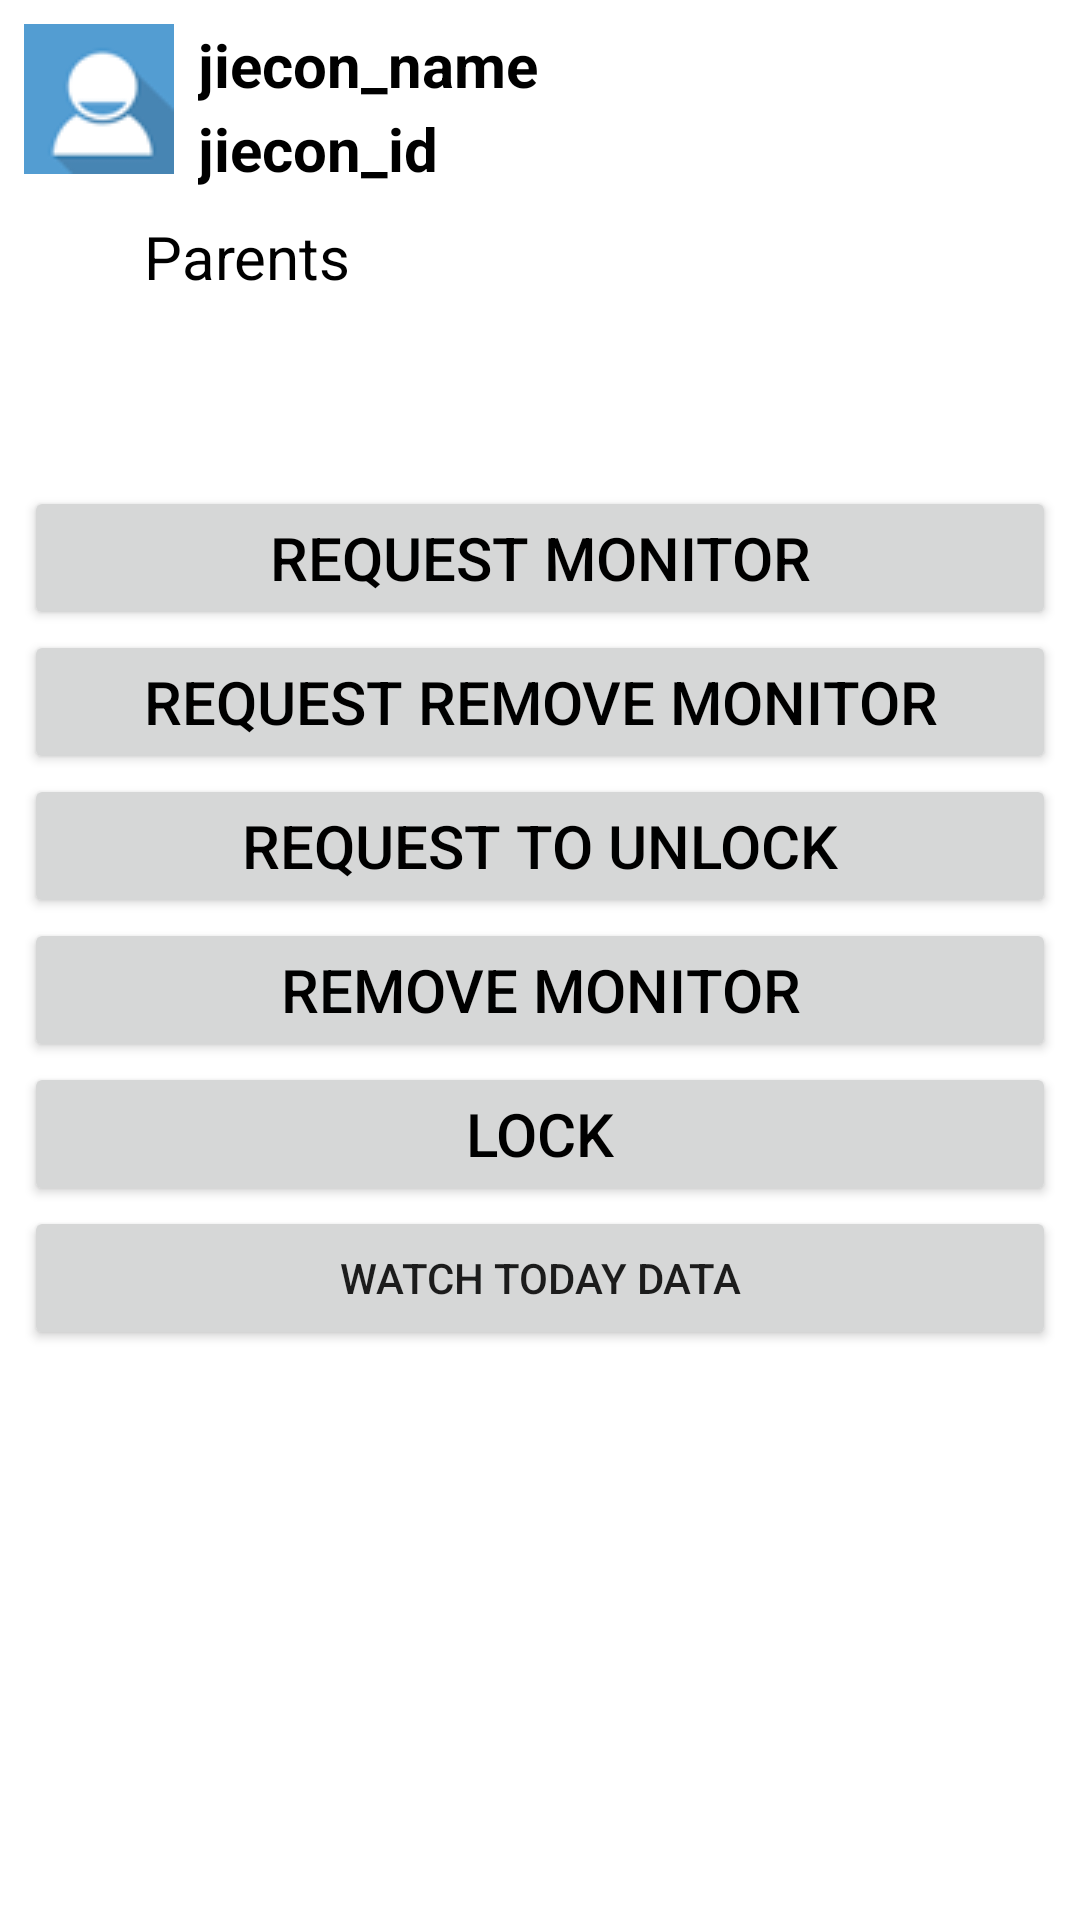

Icon bounding boxes for this 1080*1920 phone screenshot, format (x1, y1, x2, y2):
contact: (24, 24, 174, 174)
